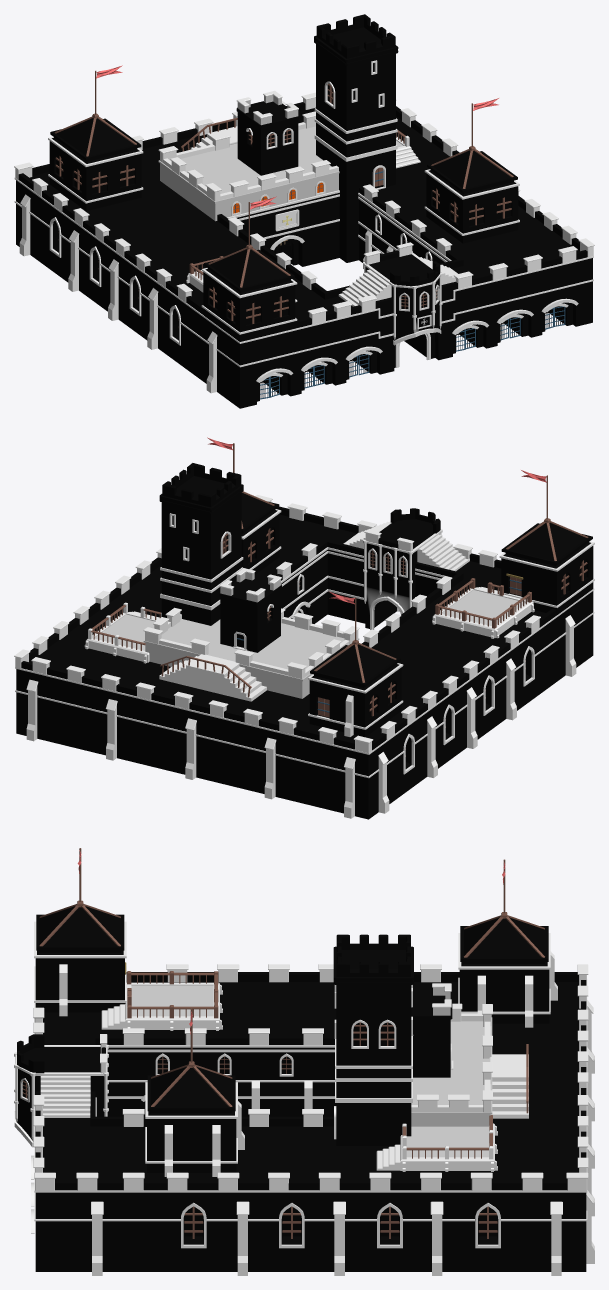
Rendered from crusader_headquarter.FBX.
The picture shows the model from 3 angles, top to bottom: view 1: azimuth 30°, elevation 25°; view 2: azimuth 150°, elevation 25°; view 3: azimuth 270°, elevation 25°; orthographic projection. The views are drawn at different scales.
Visible parts, largest first — view 1: crusader_headquarter; view 2: crusader_headquarter; view 3: crusader_headquarter.
Part boxes in pixels (x1,y1,x2,y2): crusader_headquarter: (14, 14, 594, 408); crusader_headquarter: (14, 437, 594, 819); crusader_headquarter: (14, 848, 594, 1275).
Size of the model in its own units: 5169 by 2921 by 5803.
